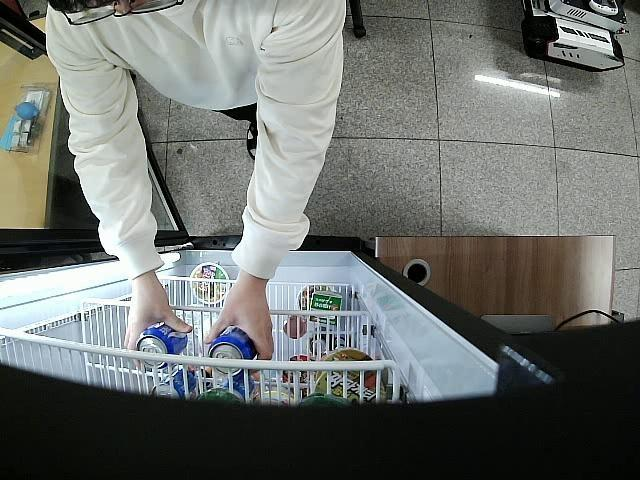13_pocariSweat: (136, 321, 189, 370), (207, 324, 258, 373)
